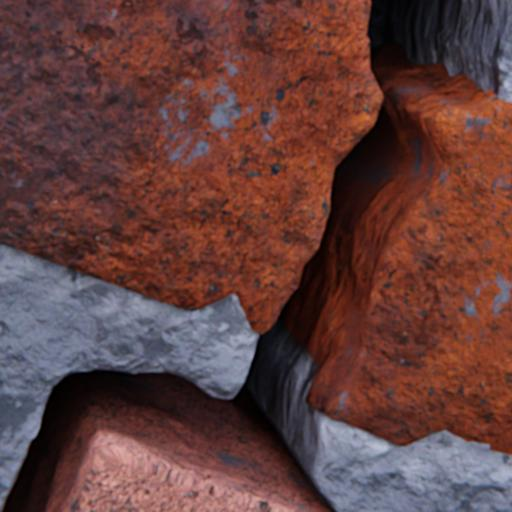brick: (73, 438, 300, 511)
broken_brick: (0, 0, 381, 332), (327, 97, 511, 453)
crack: (0, 0, 511, 511)
